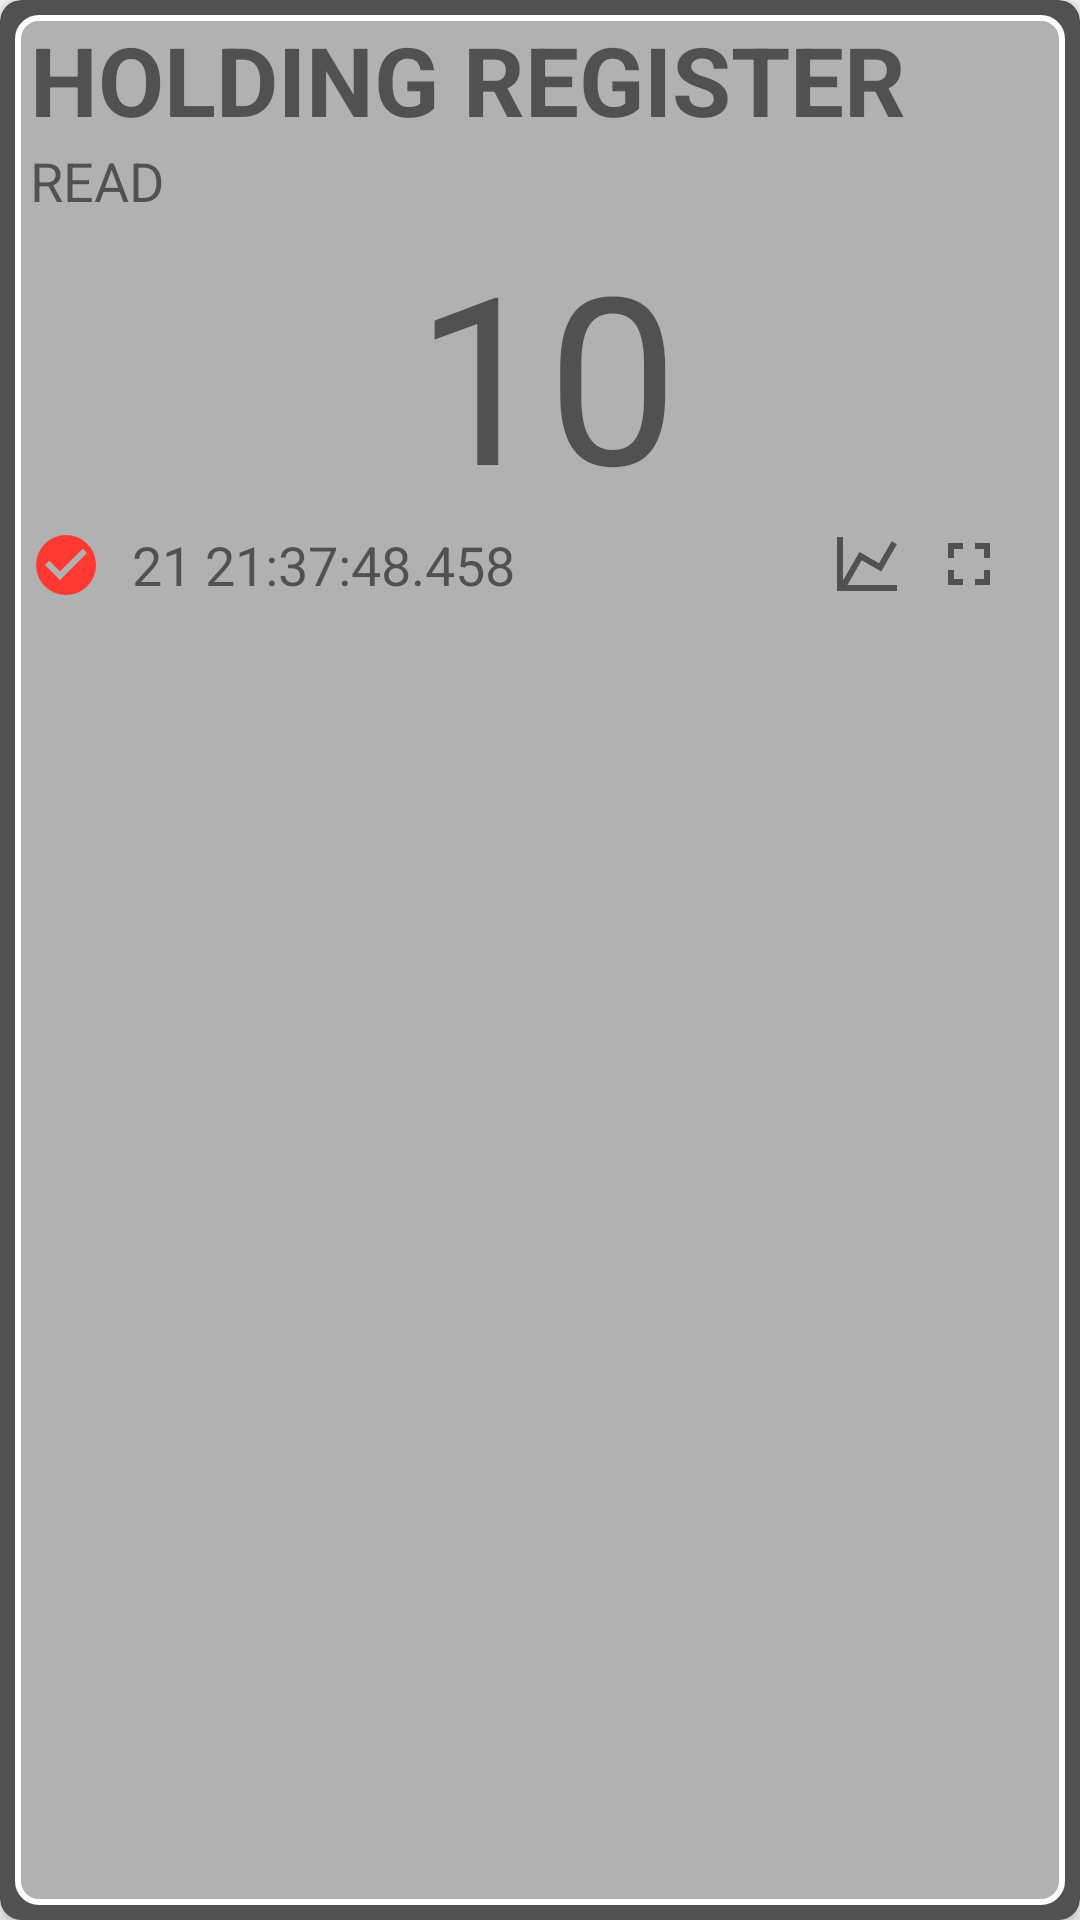

Icons on this 1080×1920 Android screen, each with the point to tap as (x,y):
chart: (867,564)
full screen: (969,564)
